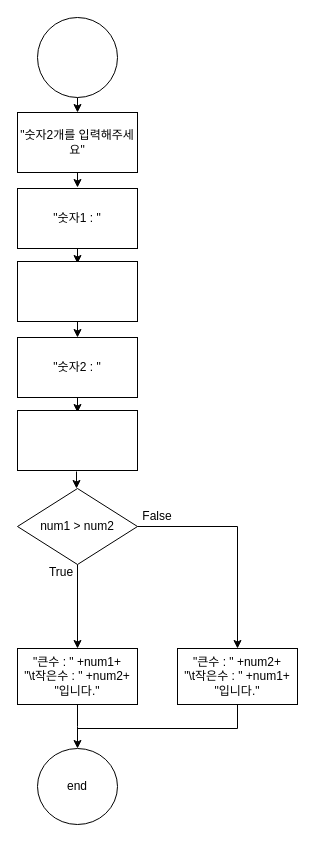
The diagram is 315 pixels wide and 842 high, and some of its shapes have lost their labels. The shapes that lost their labels are listed below. From the top down, each one's box as (x1, y1, x2, y2) in pixels, then its label:
(36, 16, 118, 98): Start
(16, 260, 138, 322): 숫자1 입력 num1
(16, 410, 138, 470): 숫자2 입력 num2
